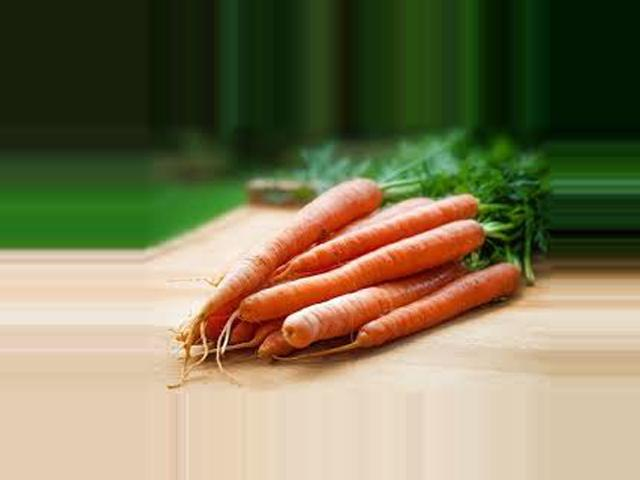carrot: (336, 266, 529, 377)
